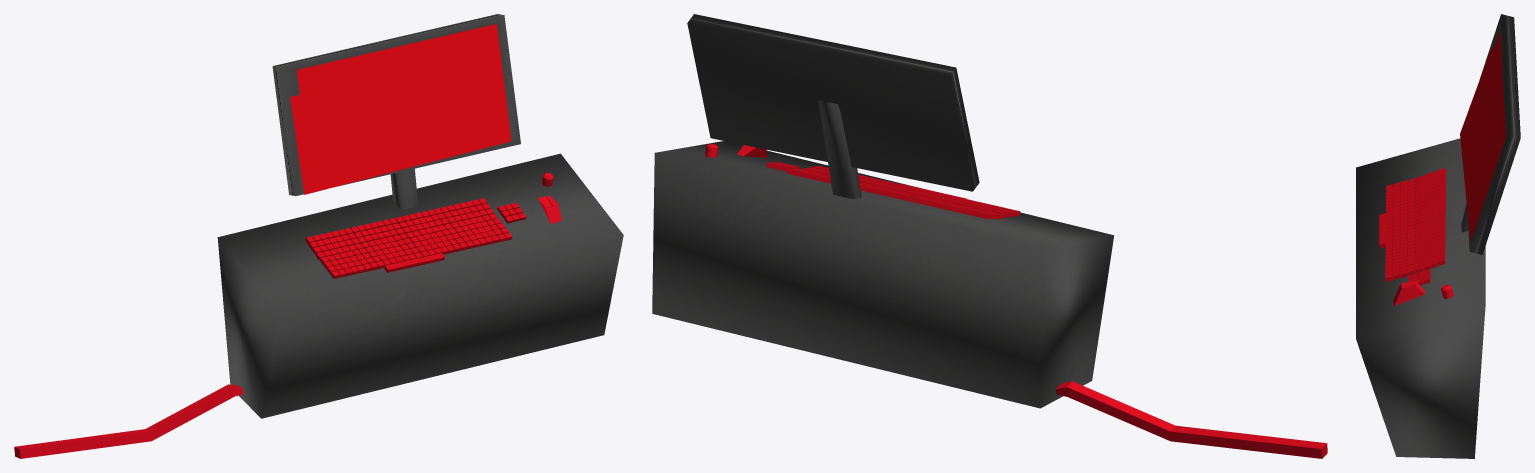
The model's file is fixed_terminal.fbx.
3 renders of one model, left to right at view 1: azimuth 30°, elevation 25°; view 2: azimuth 150°, elevation 25°; view 3: azimuth 270°, elevation 25°, orthographic. The views are drawn at different scales.
Visible parts, largest first — view 1: Terminal Base, Screen, Monitor, Wire, Monitor Stand; view 2: Terminal Base, Monitor, Wire, Monitor Stand; view 3: Terminal Base, Screen, Monitor, Mouse, Keyboard.
Part boxes in pixels (bbox=[...]): Terminal Base: bbox=[217, 153, 623, 418]; Screen: bbox=[290, 24, 511, 194]; Monitor: bbox=[272, 14, 520, 195]; Wire: bbox=[14, 384, 243, 458]; Monitor Stand: bbox=[390, 168, 418, 210]; Terminal Base: bbox=[652, 141, 1114, 408]; Monitor: bbox=[687, 14, 979, 191]; Wire: bbox=[1055, 381, 1327, 458]; Monitor Stand: bbox=[818, 100, 861, 199]; Terminal Base: bbox=[1356, 138, 1485, 458]; Screen: bbox=[1460, 30, 1505, 241]; Monitor: bbox=[1467, 14, 1520, 254]; Mouse: bbox=[1393, 281, 1424, 305]; Keyboard: bbox=[1379, 213, 1385, 247].
Bounding box in the file's own units: 1007 × 521 × 243.
Materials: 271 (3 with a texture image).
